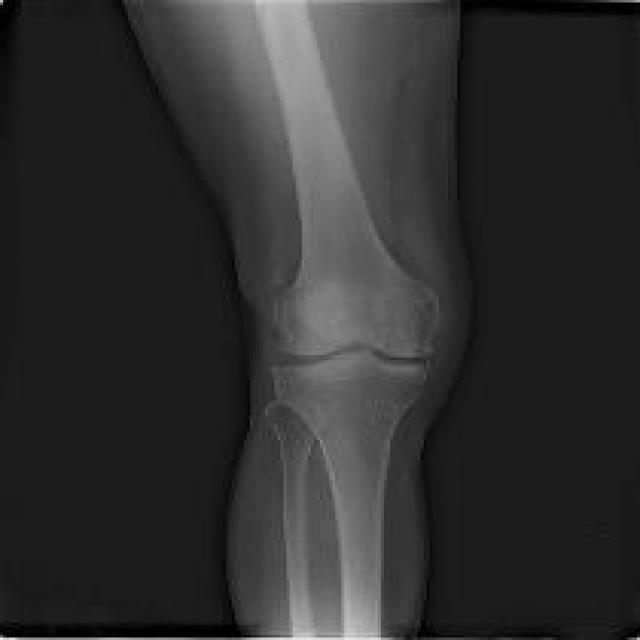normal: (250, 0, 437, 353), (272, 352, 429, 640), (268, 404, 325, 640)
